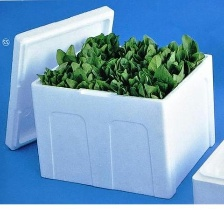foam_box: (0, 2, 219, 201)
